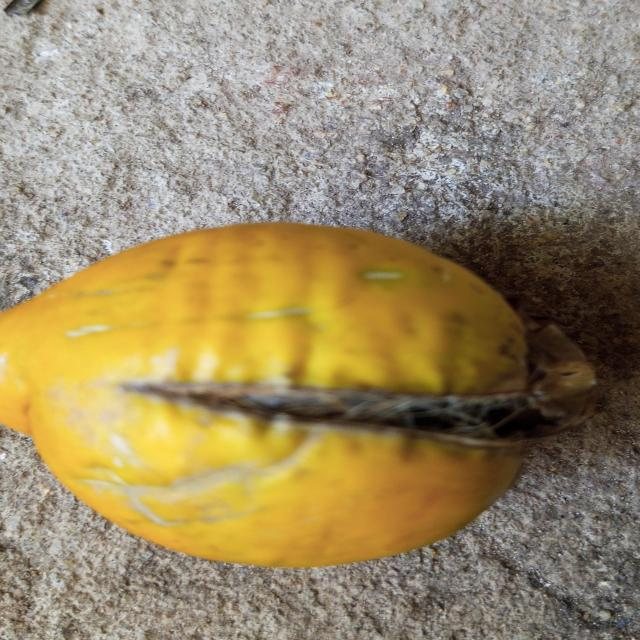damaged: (0, 222, 595, 571)
